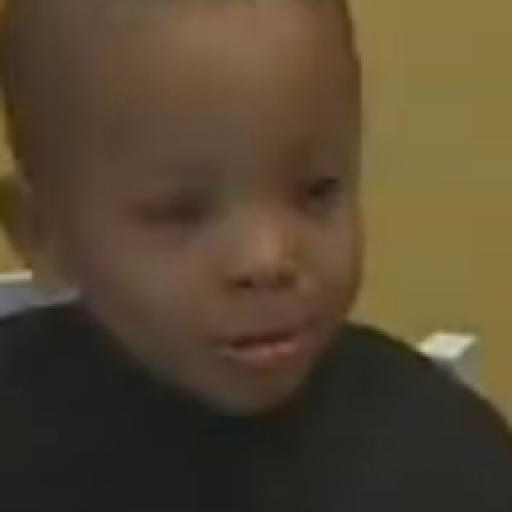Autism: (5, 2, 402, 428)
